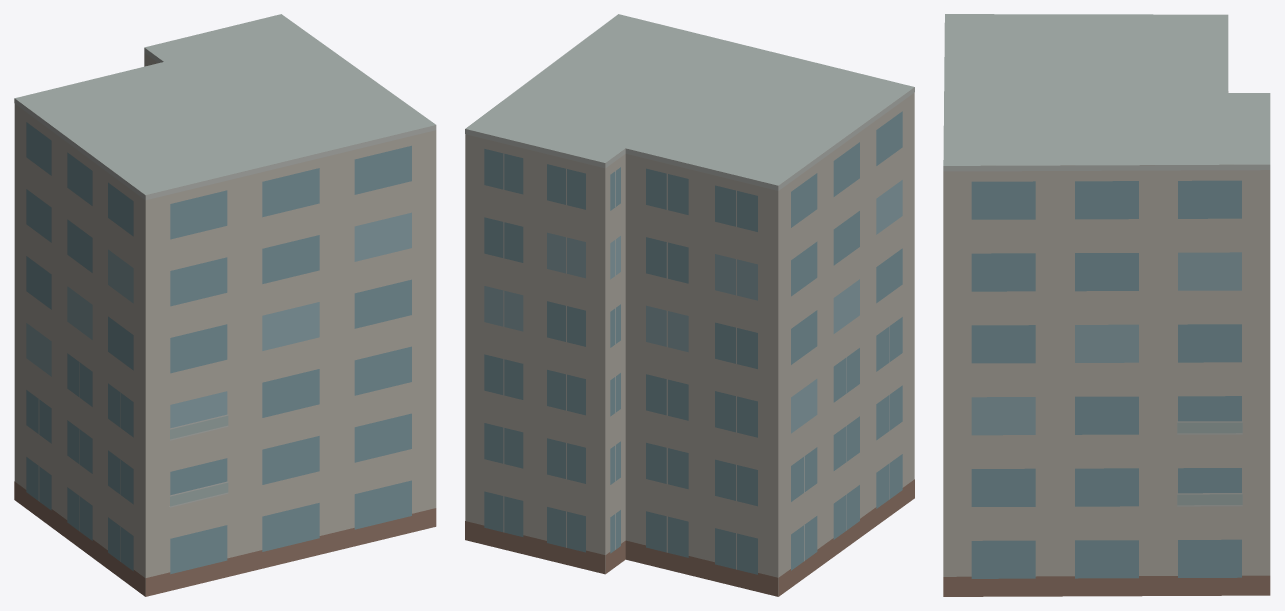
Rendered from survey-upis-32577215.glb.
3 renders of one model, left to right at view 1: azimuth 30°, elevation 25°; view 2: azimuth 150°, elevation 25°; view 3: azimuth 270°, elevation 25°, orthographic. The views are drawn at different scales.
Parts seen in each view (by area): view 1: survey-upis-32577215.tmp; view 2: survey-upis-32577215.tmp; view 3: survey-upis-32577215.tmp.
Part boxes in pixels (left/top/right/bottom): survey-upis-32577215.tmp: left=14, top=14, right=436, bottom=596; survey-upis-32577215.tmp: left=465, top=14, right=914, bottom=596; survey-upis-32577215.tmp: left=943, top=14, right=1270, bottom=596.
Bounding box in the file's own units: 14.38 × 19 × 13.08.
